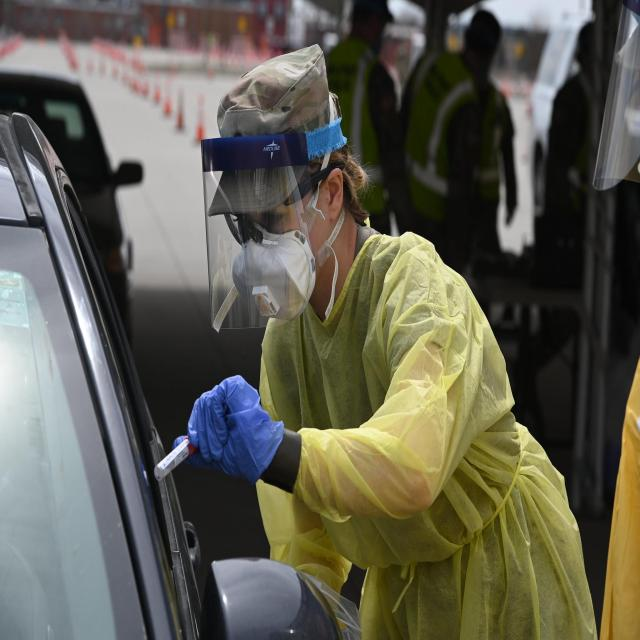Gloves: (185, 368, 292, 483)
Mask: (230, 228, 318, 328)
